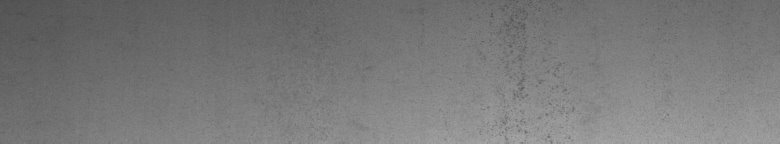ib: (479, 4, 581, 136)
